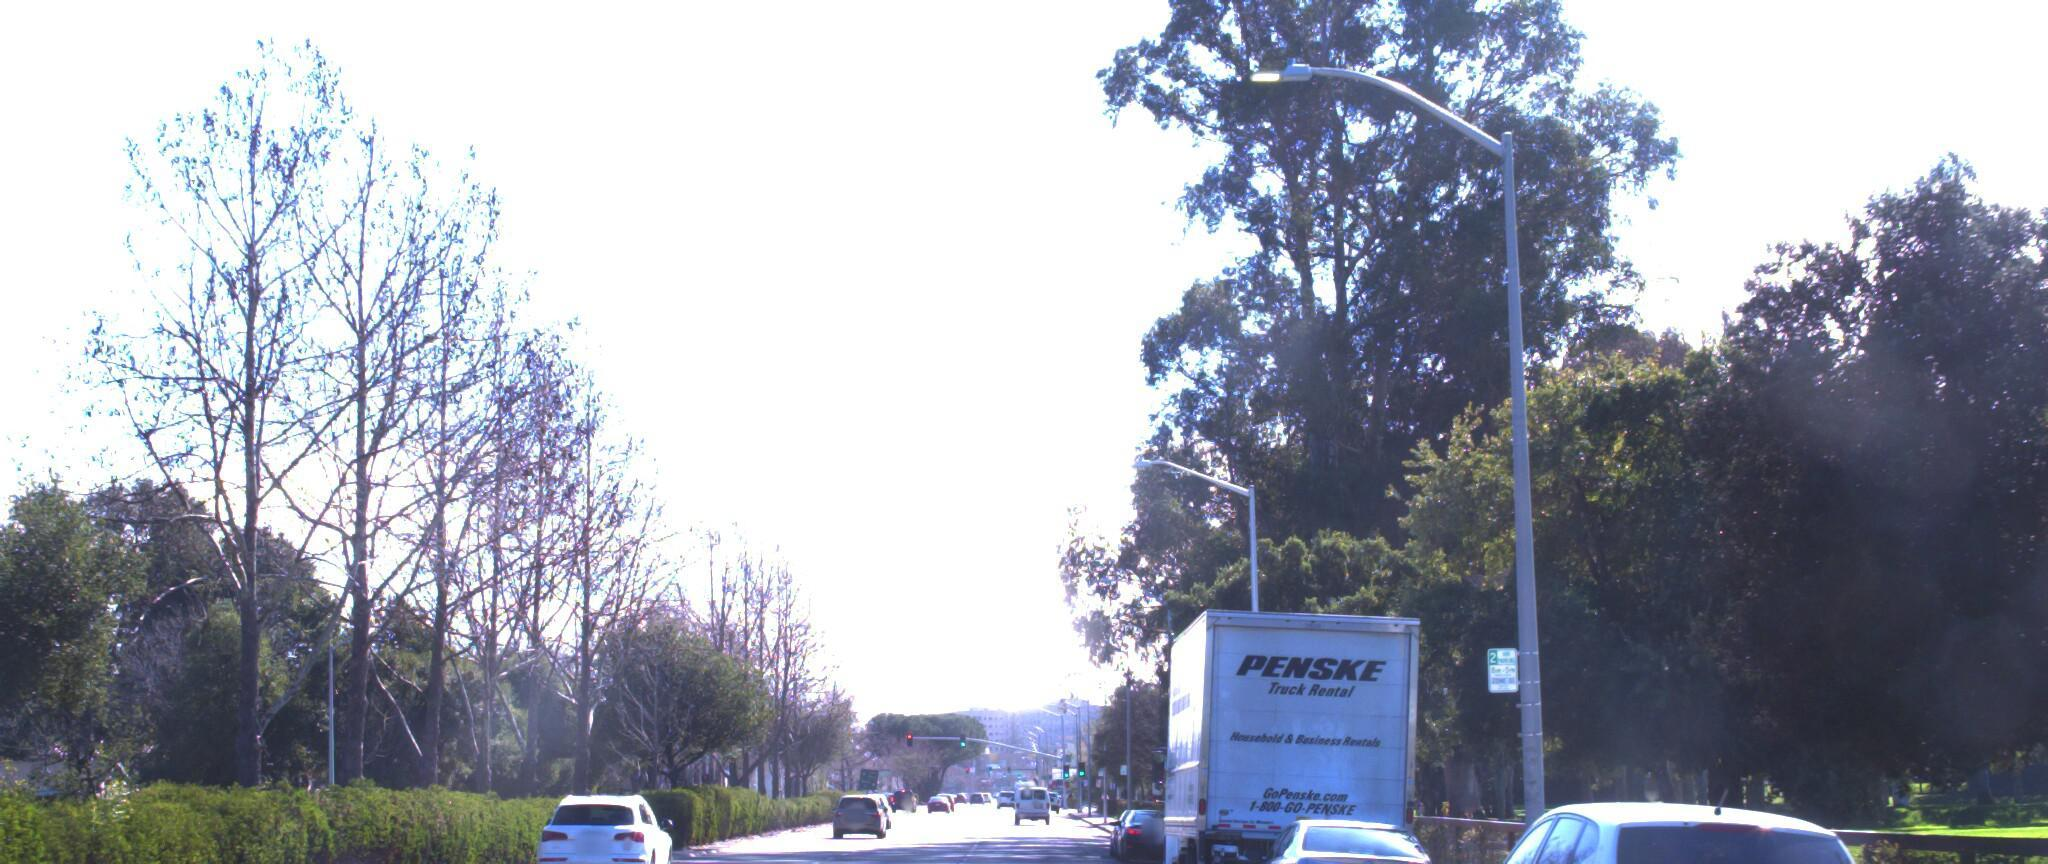car: (1394, 761, 1938, 864), (1220, 784, 1454, 864), (524, 747, 682, 864), (0, 778, 141, 864)
truck: (1136, 576, 1432, 864)
